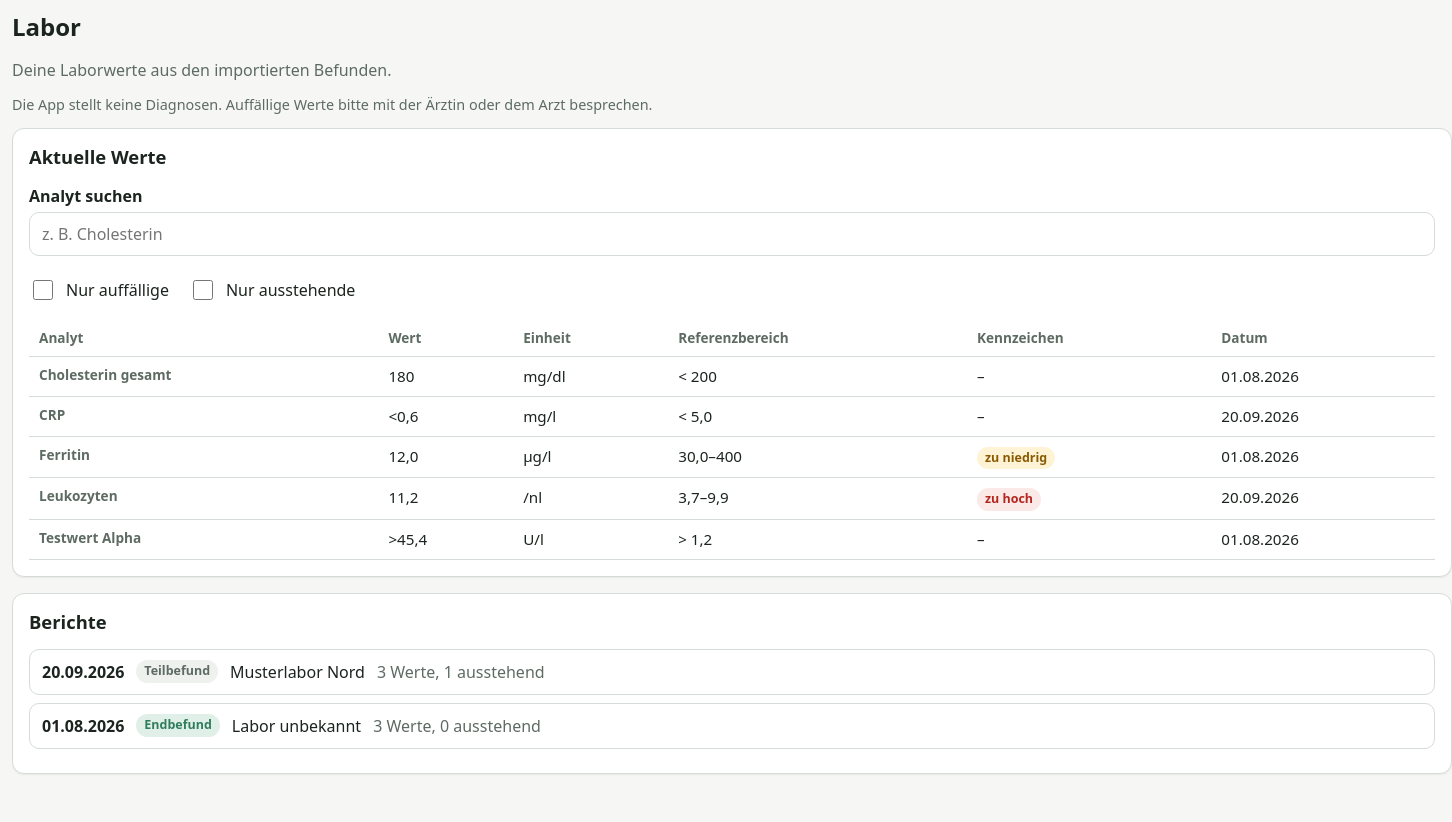
Test: Labor › zeigt mit „Nur auffällige“ nur Werte mit Kennzeichen
Expected: the heading "Aktuelle Werte" is shown, [29, 145, 166, 168]
Click the checkbox labelled "Nur auffällige" at (43, 290), box [33, 280, 53, 300]
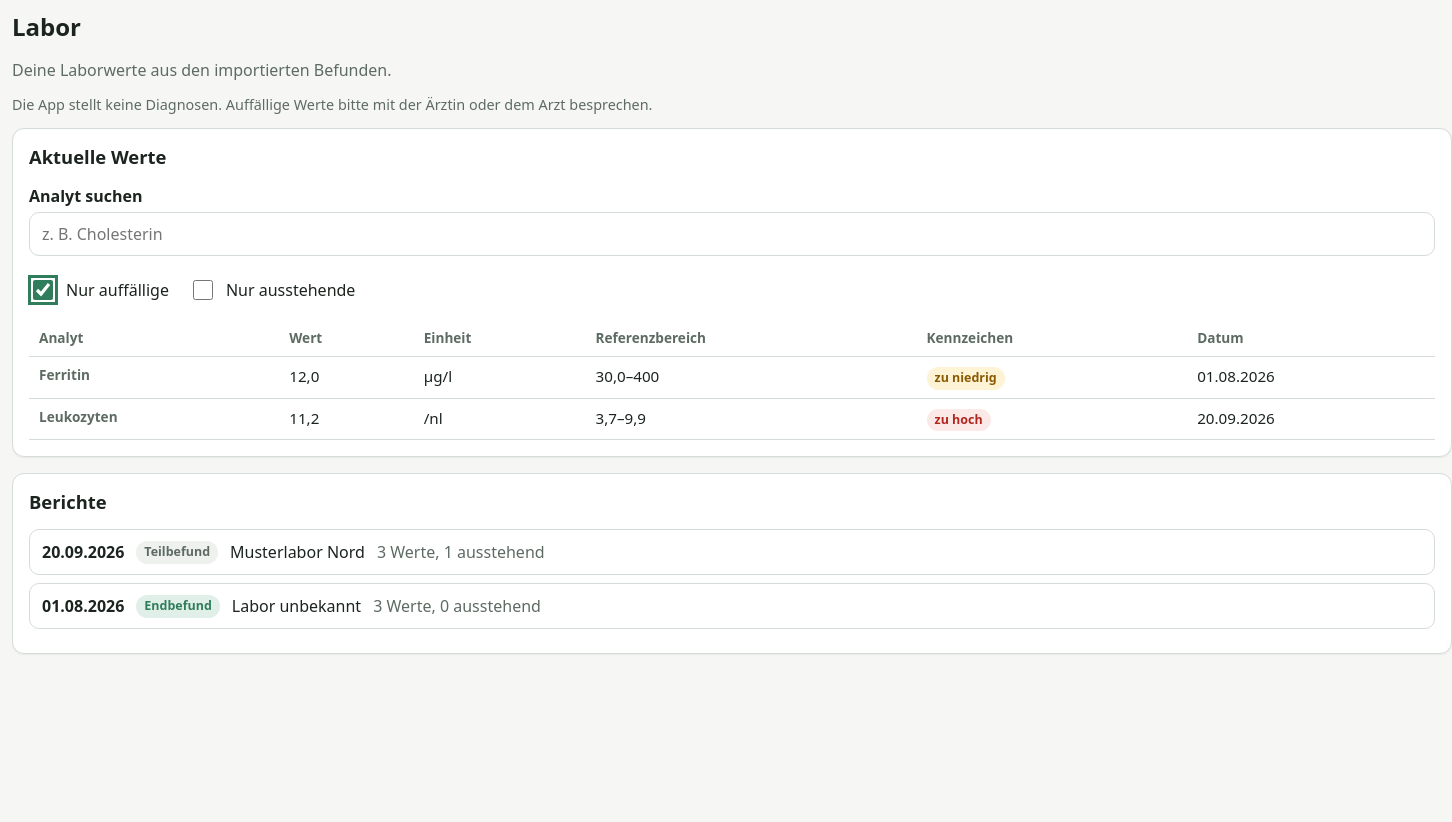
Expected: the row "Leukozyten 11,2 /nl 3,7–9,9 zu hoch 20.09.2026" is shown, [29, 398, 1435, 440]
Expected: the column heading "CRP" is gone
